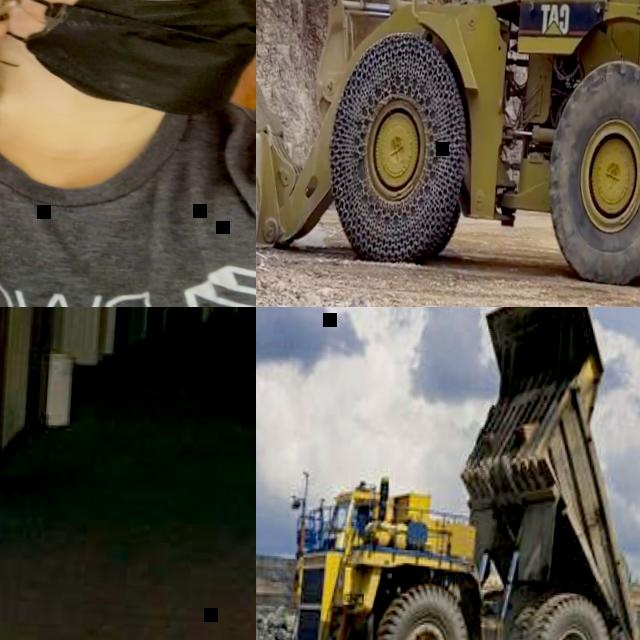Mask: (0, 0, 256, 121)
NO-Safety Vest: (0, 85, 256, 307)
Person: (0, 0, 256, 307)
machinery: (281, 307, 640, 640), (256, 0, 640, 295)
